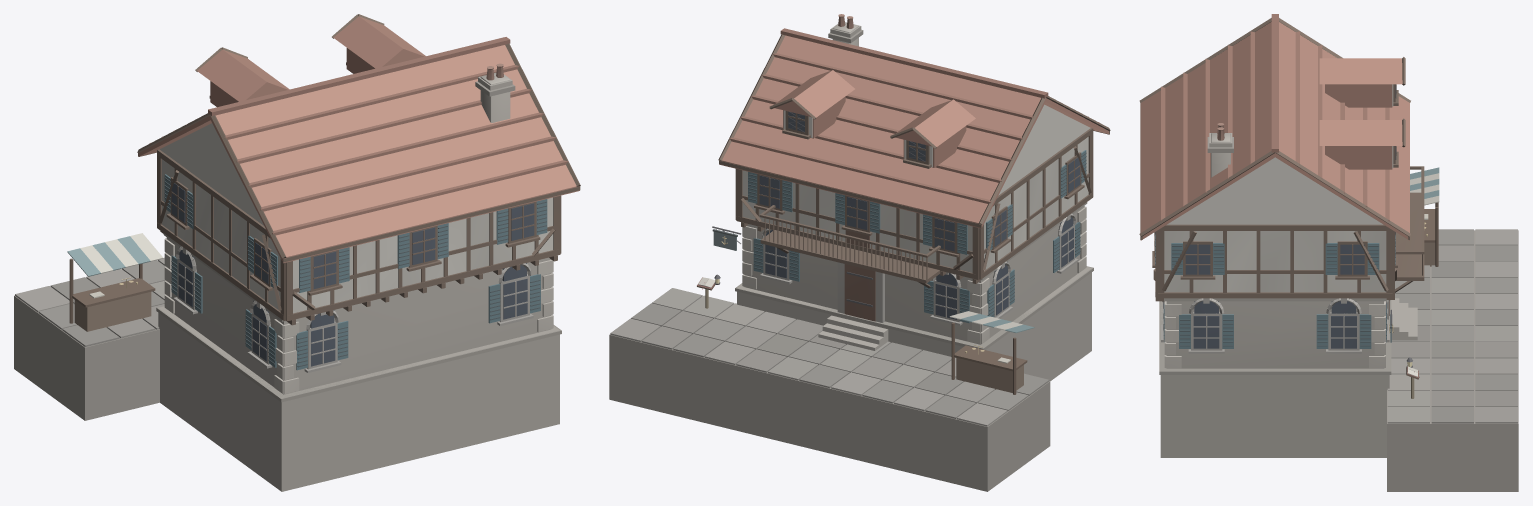
The model's file is harbour_master_4.gltf.
3 views of the same model, side by side, from view 1: azimuth 30°, elevation 25°; view 2: azimuth 150°, elevation 25°; view 3: azimuth 270°, elevation 25° (orthographic). The views are drawn at different scales.
Parts seen in each view (by area): view 1: Body; view 2: Body; view 3: Body.
Part boxes in pixels (box(x1,y1,x2,y2)): Body: box(14, 14, 580, 491); Body: box(609, 14, 1110, 491); Body: box(1139, 14, 1518, 491).
Bounding box in the file's own units: 16 × 12.22 × 13.25.
